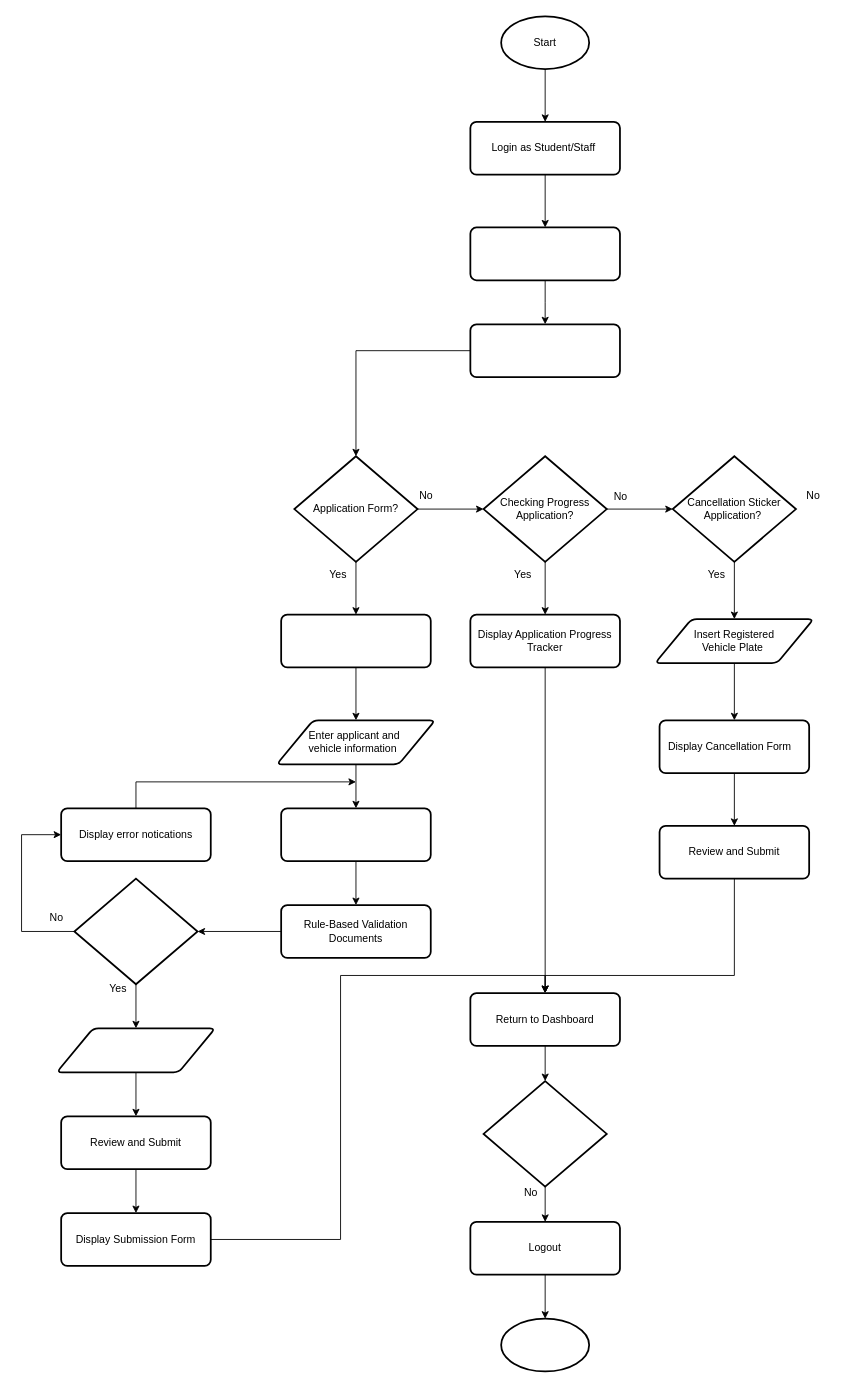
Some shapes in this 855 by 1387 pixel diagram are drawn without their labels. The shapes that lost their labels are listed below. From the top down, each one's box as (x1, y1, x2, y2) in pixels, then its label:
(469, 226, 620, 281): Display Dashboard
(469, 323, 620, 378): Select Services
(280, 613, 431, 668): Display Application Form by Tabs
(280, 807, 431, 862): Upload Supporting Document
(73, 877, 198, 985): Are all documents valid?
(55, 1027, 216, 1073): Enter an emergency contact information
(482, 1080, 607, 1187): Continue using system?
(500, 1317, 590, 1372): End
